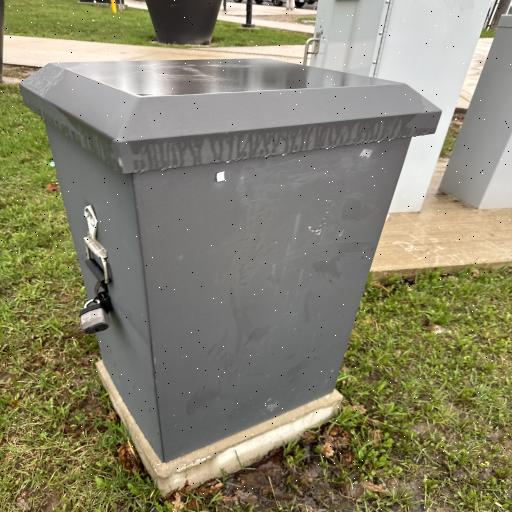Electrical Box: (16, 59, 444, 464)
